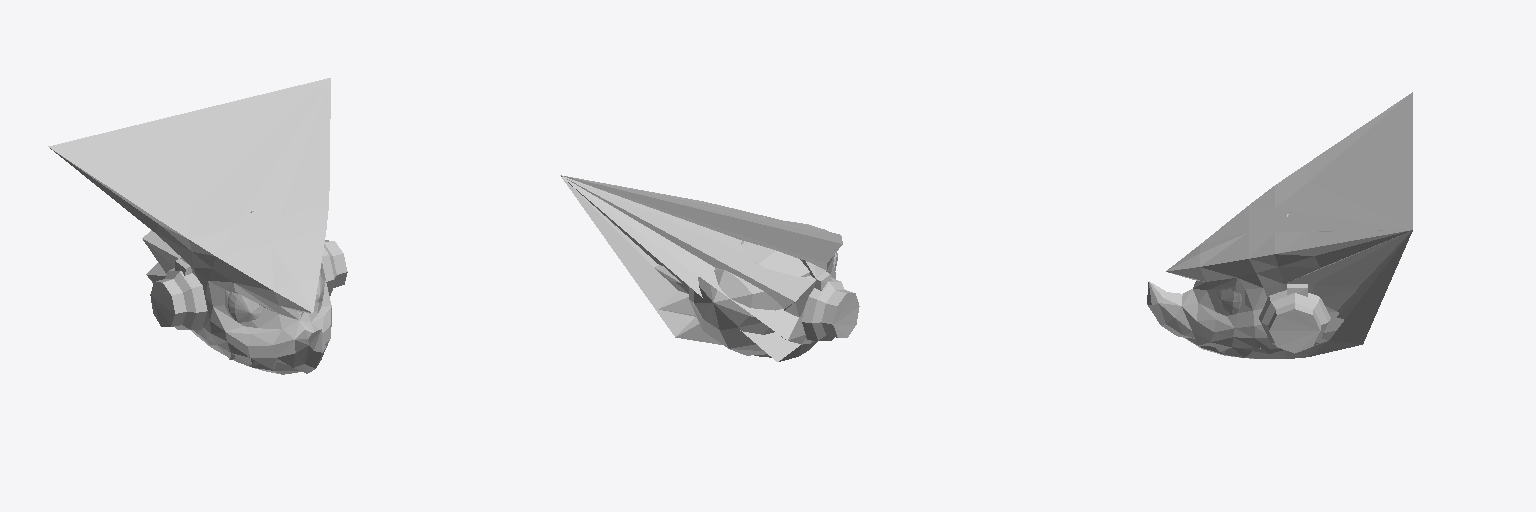
File: head-4_shoutmon.blend.obj
3 renders of one model, left to right at view 1: azimuth 30°, elevation 25°; view 2: azimuth 150°, elevation 25°; view 3: azimuth 270°, elevation 25°, orthographic.
Parts seen in each view (by area): view 1: head-4_shoutmon.blend_Mesh.011; view 2: head-4_shoutmon.blend_Mesh.011; view 3: head-4_shoutmon.blend_Mesh.011.
Part boxes in pixels (bbox=[...]): head-4_shoutmon.blend_Mesh.011: bbox=[48, 78, 347, 374]; head-4_shoutmon.blend_Mesh.011: bbox=[560, 175, 859, 361]; head-4_shoutmon.blend_Mesh.011: bbox=[1147, 92, 1412, 358].
Bounding box in the file's own units: 1.99 × 1.28 × 1.62.